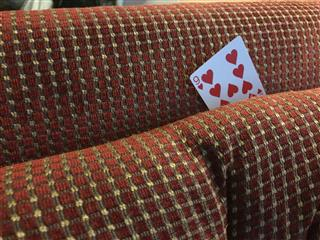NineOfHearts: (188, 34, 266, 110)
